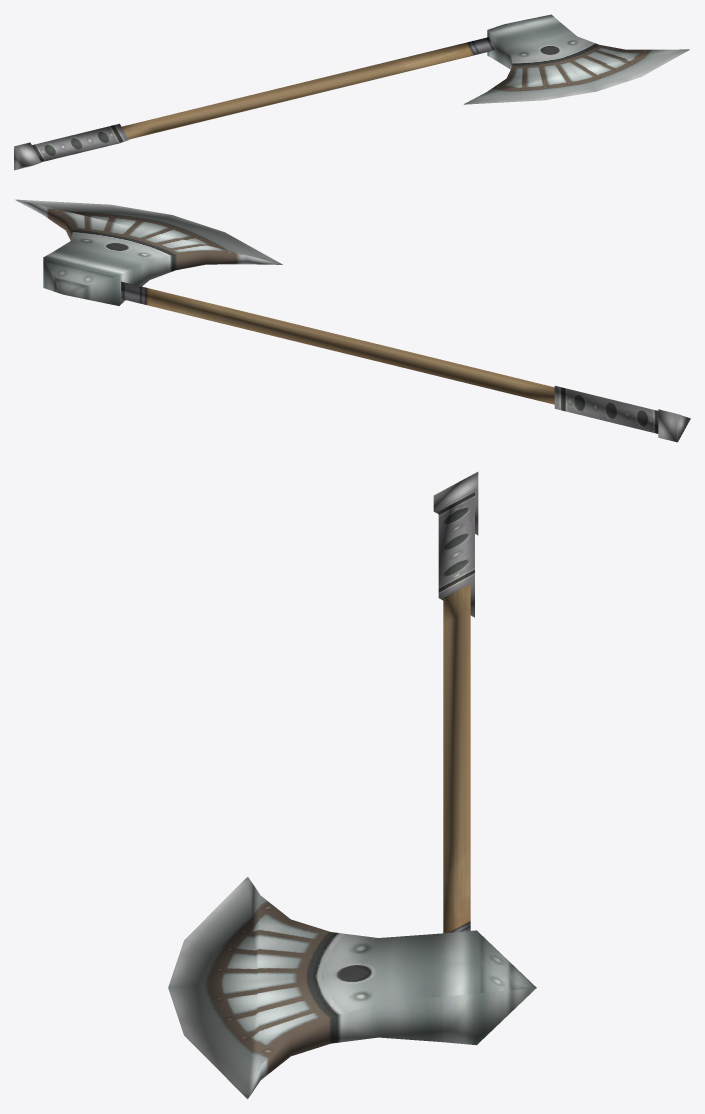
The model's file is item_weaaxttwohan.glb.
The picture shows the model from 3 angles, top to bottom: view 1: azimuth 30°, elevation 25°; view 2: azimuth 150°, elevation 25°; view 3: azimuth 270°, elevation 25°; orthographic projection. The views are drawn at different scales.
Parts seen in each view (by area): view 1: item_0; view 2: item_0; view 3: item_0.
Part boxes in pixels (<box>): item_0: <box>14,14,690,170</box>; item_0: <box>15,199,690,442</box>; item_0: <box>168,472,536,1099</box>.
Bounding box in the file's own units: 2.51 × 0.1011 × 0.6468.
1 material, 1 textured.
